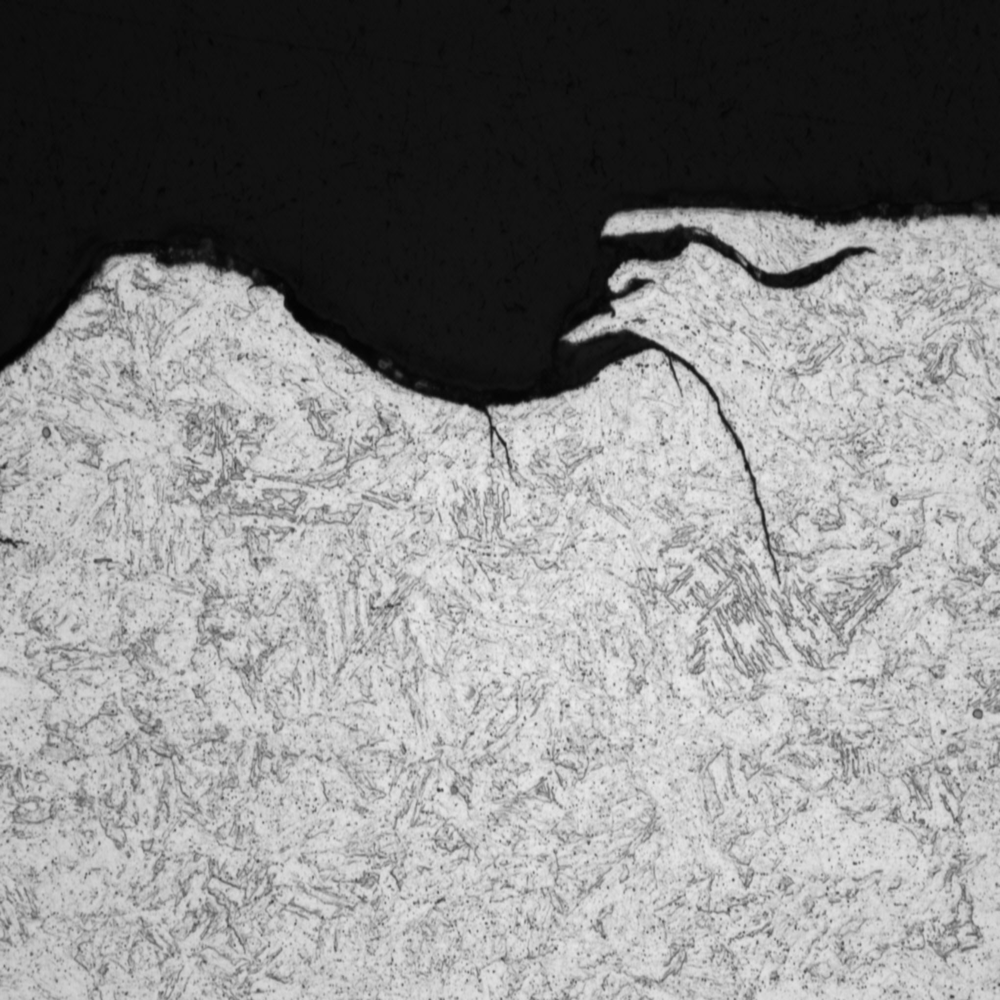crack: (323, 322, 809, 605), (519, 228, 910, 313)
